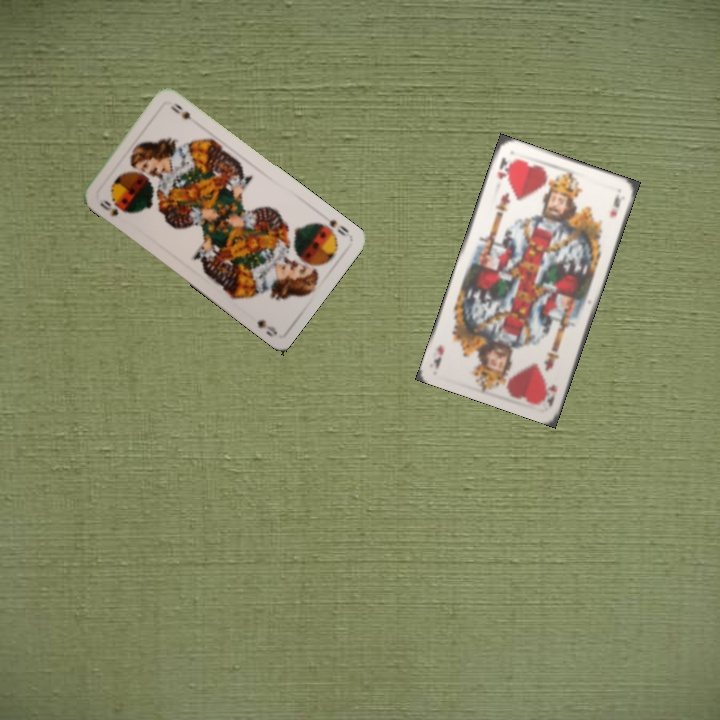HK: (493, 153, 516, 181), (539, 380, 559, 409)
SO: (314, 215, 353, 239), (96, 196, 132, 219)
